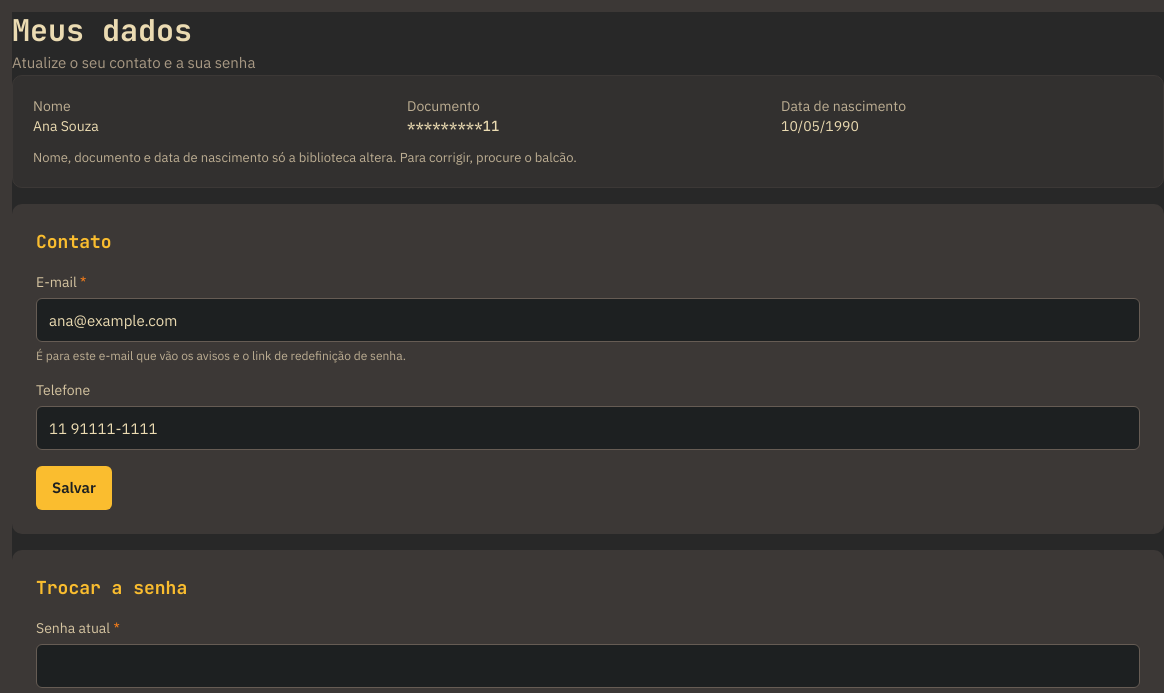
meus dados › pede a senha atual ao trocar o e-mail e não envia sem ela
The width and height of the screenshot is (1164, 693).
Replace the text in the field labelled "E-mail *" with "nova@example.com" at (588, 320), box [36,298,1140,342]
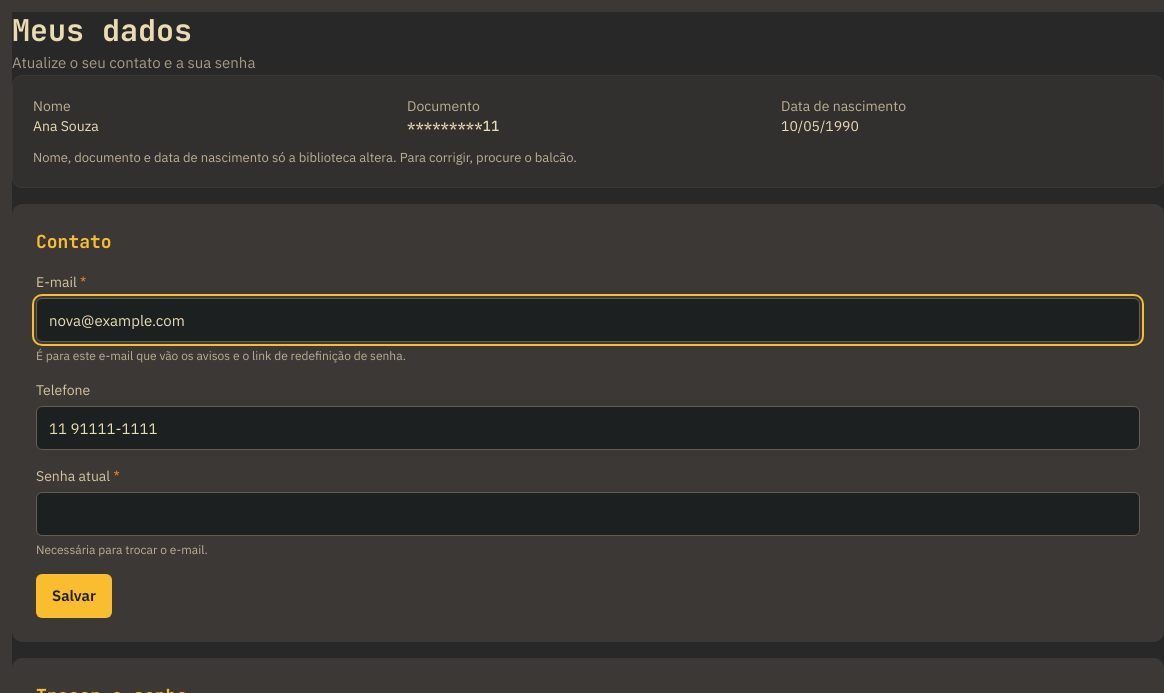
Result: the password field labelled "Senha atual *" is shown at [36,492,1140,536]
Click the button "Salvar" at (74, 596), box [36,574,112,618]
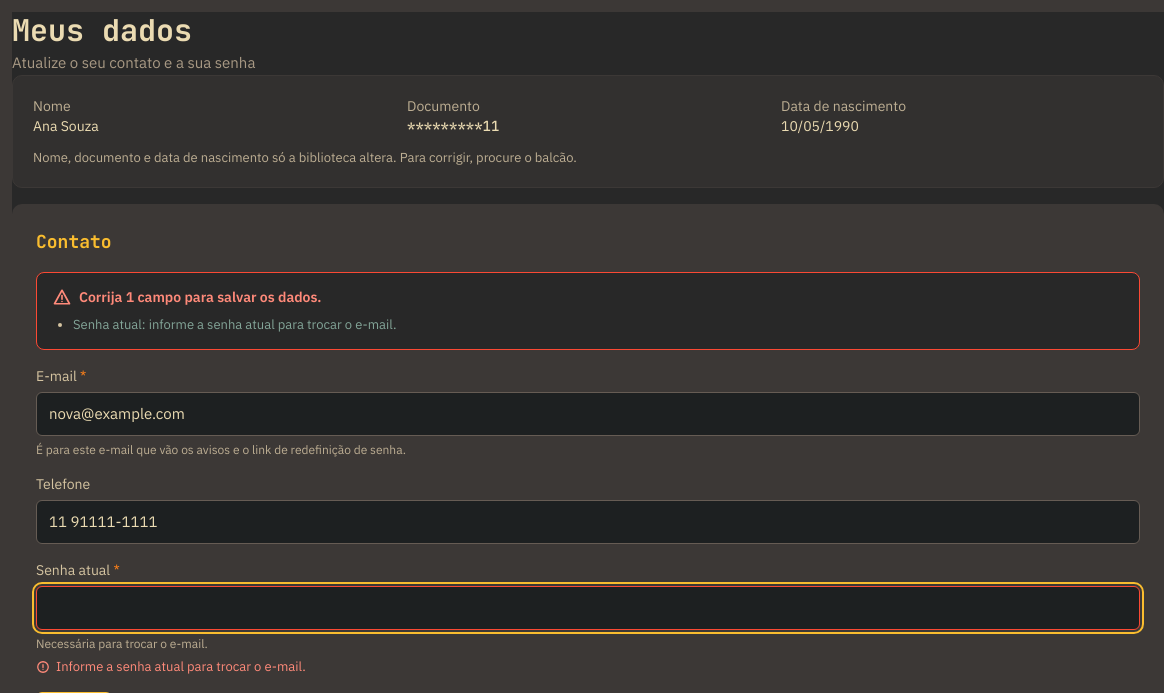
Result: the text "Informe a senha atual para trocar o e-mail." is shown at [36,658,306,674]
